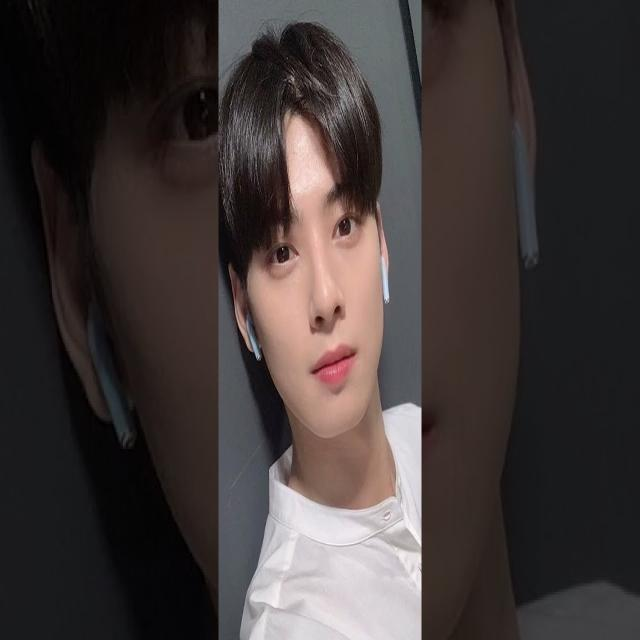earphone: (235, 292, 290, 385), (370, 230, 402, 325)
